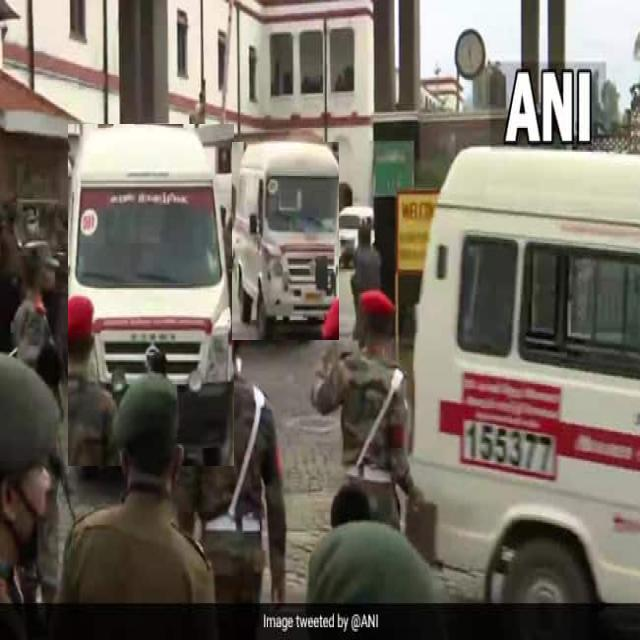emergency: (411, 148, 640, 600), (69, 124, 234, 466), (232, 142, 339, 340)
